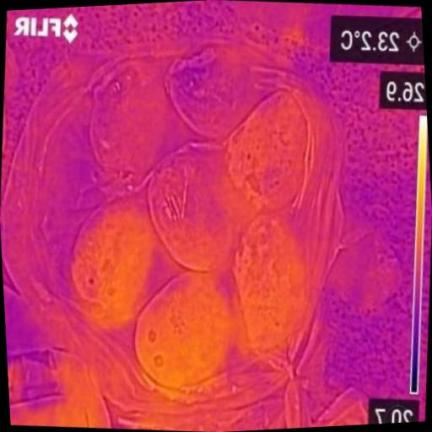mango: (148, 146, 246, 270), (135, 272, 232, 388), (234, 217, 310, 351), (72, 205, 155, 327), (228, 91, 312, 208), (91, 61, 167, 177), (167, 48, 252, 139)
